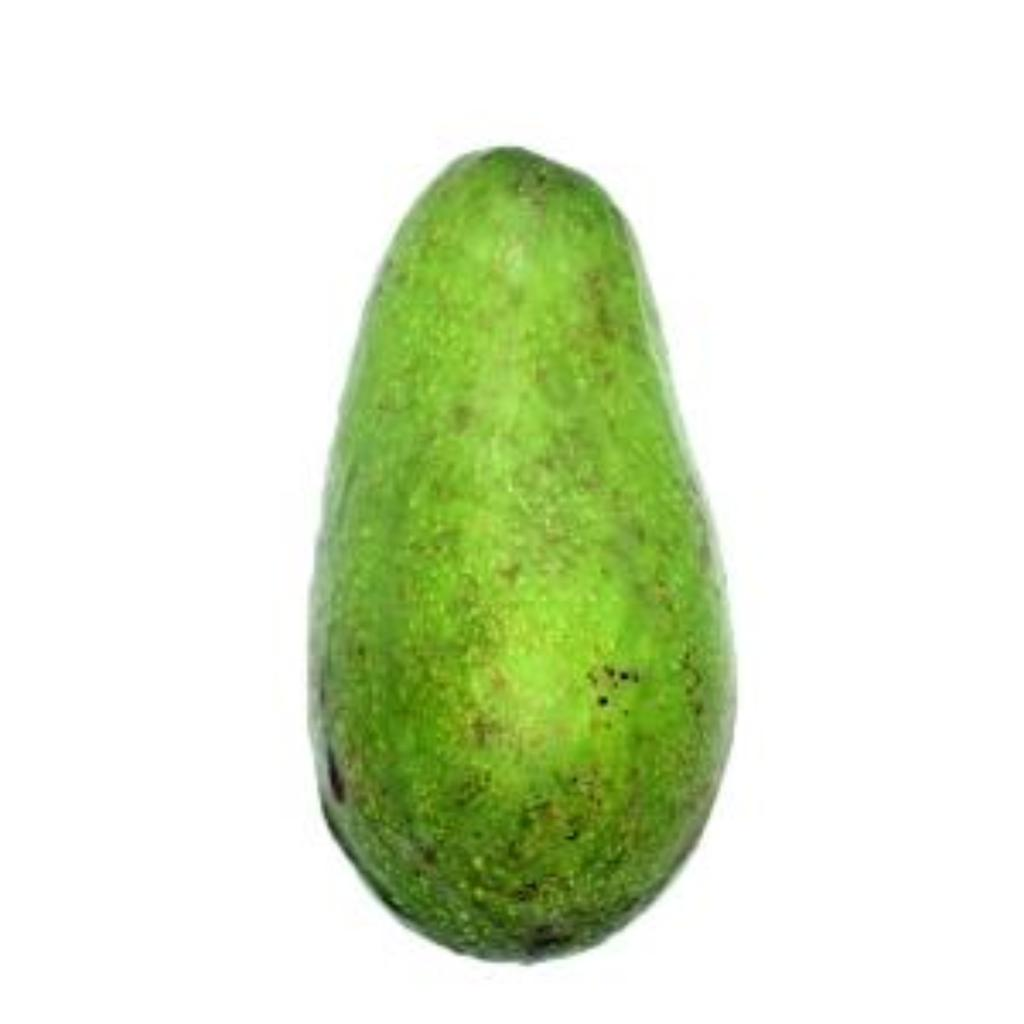cercospora_spot: (287, 144, 741, 962)
